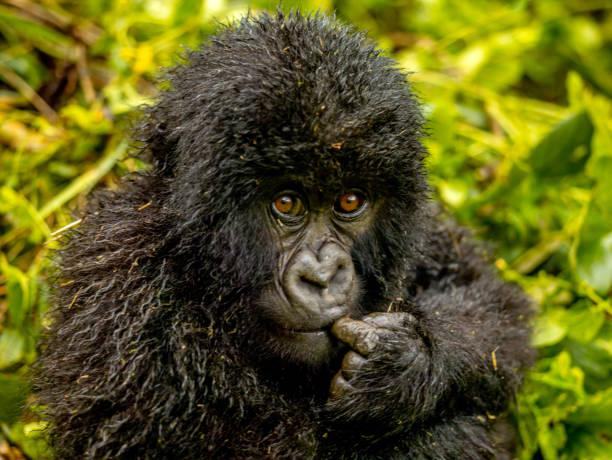goriile_montagne: (60, 11, 555, 460)
